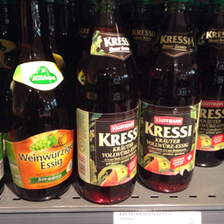vinegar: (4, 1, 75, 205), (76, 1, 141, 204), (140, 3, 200, 193)
